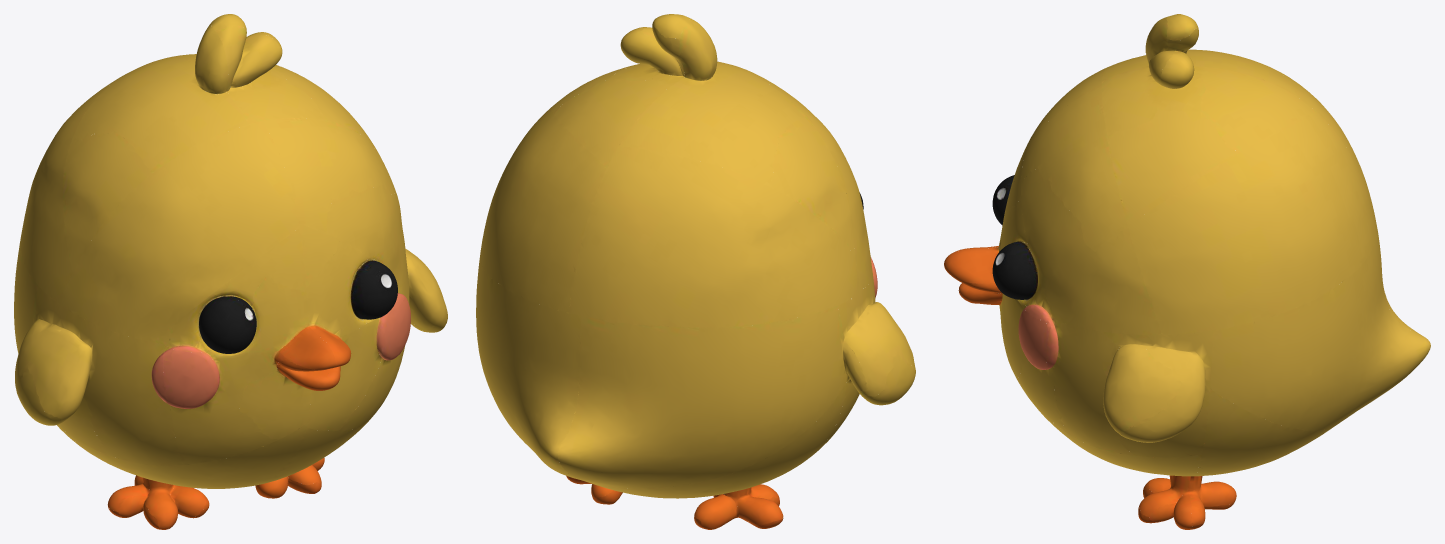
The model's file is chick_tripo.glb.
3 renders of one model, left to right at view 1: azimuth 30°, elevation 25°; view 2: azimuth 150°, elevation 25°; view 3: azimuth 270°, elevation 25°, orthographic. The views are drawn at different scales.
Parts seen in each view (by area): view 1: tripo_node_3c610b33-68c9-420e-a55f-483c0babd31b; view 2: tripo_node_3c610b33-68c9-420e-a55f-483c0babd31b; view 3: tripo_node_3c610b33-68c9-420e-a55f-483c0babd31b.
Part boxes in pixels (x1,y1,x2,y2): tripo_node_3c610b33-68c9-420e-a55f-483c0babd31b: (14, 14, 447, 529); tripo_node_3c610b33-68c9-420e-a55f-483c0babd31b: (476, 14, 915, 529); tripo_node_3c610b33-68c9-420e-a55f-483c0babd31b: (944, 14, 1430, 529).
Size of the model in its own units: 0.2682 by 0.3 by 0.2802.
1 material, 1 textured.
